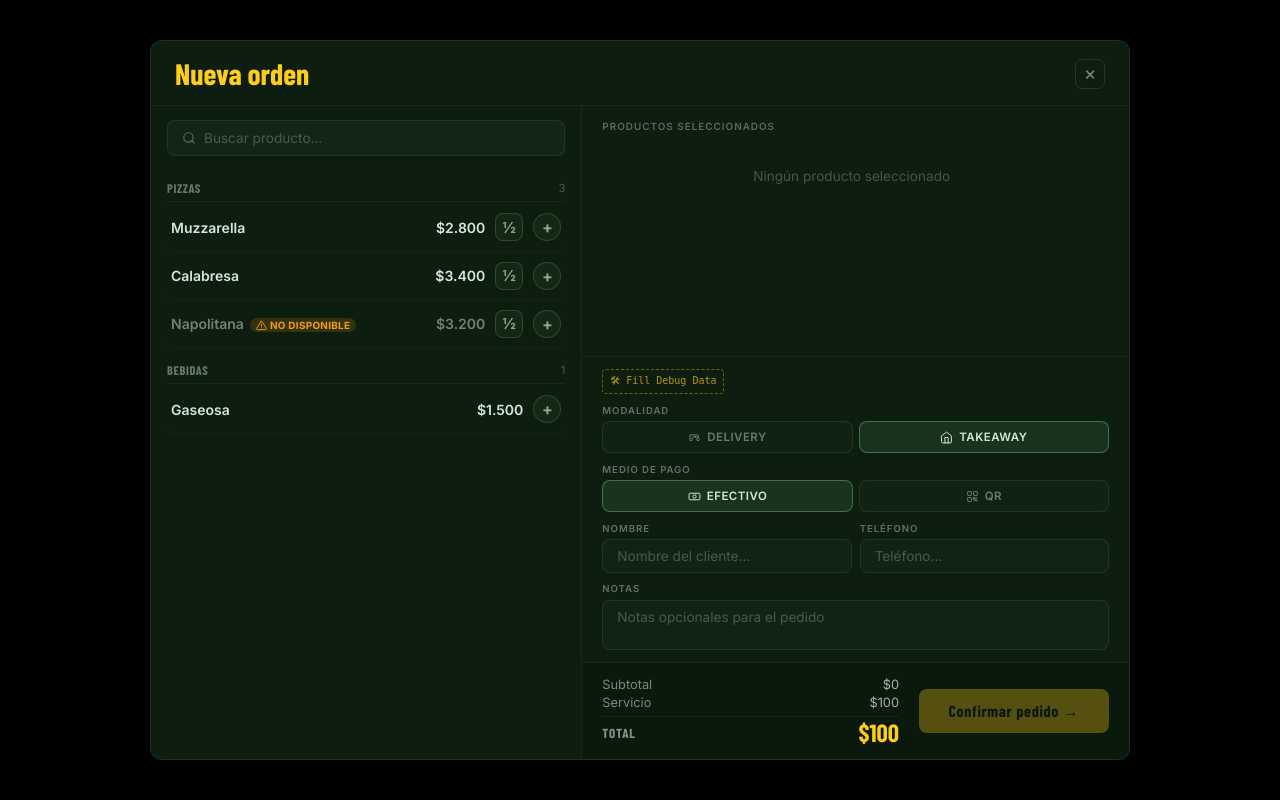
Test case: NewOrderModal · mitad y mitad (US-HH-F-03) › se completa tocando el ½ de la otra pizza
The image size is (1280, 800).
Expected: the text "Muzzarella" is shown, [171,219,245,236]
Click the button named "mitad y mitad": click(509, 227) [495,213,523,241]
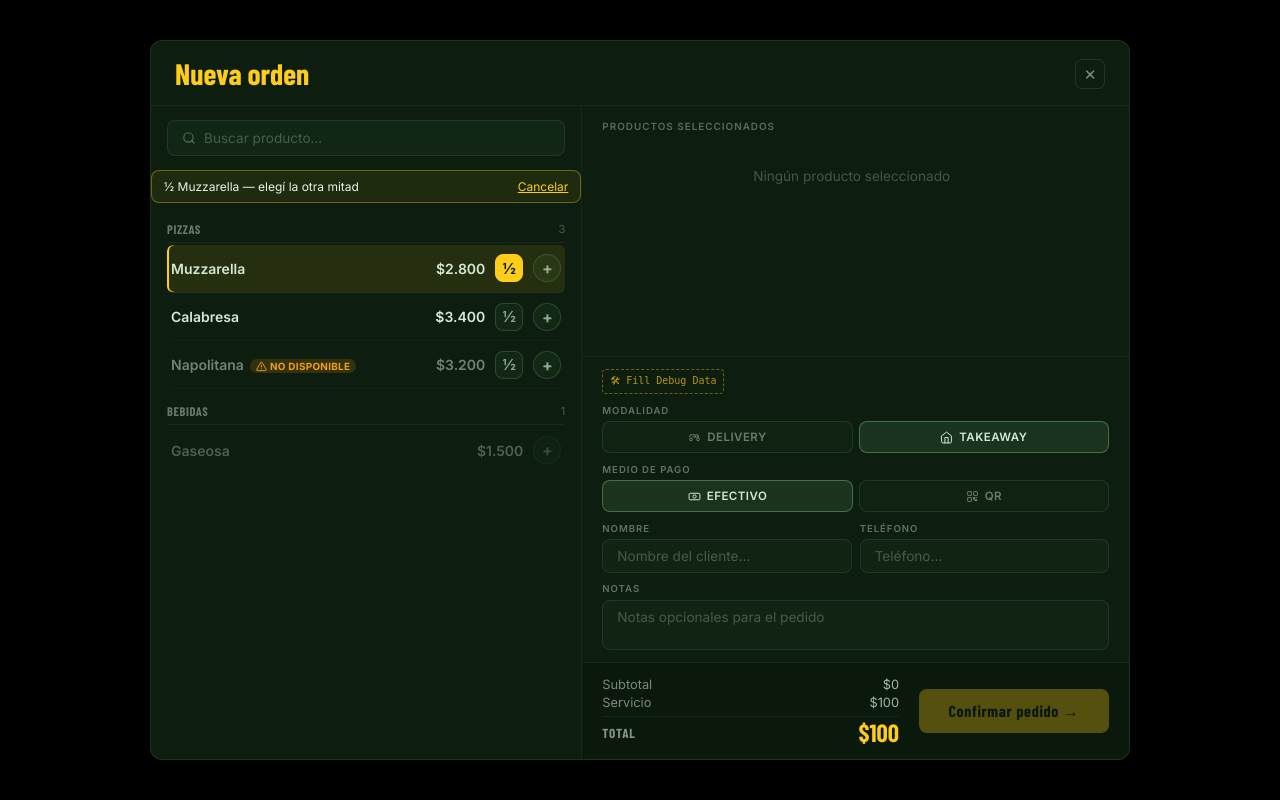
Click the button named "mitad y mitad": click(509, 316) [495,302,523,330]
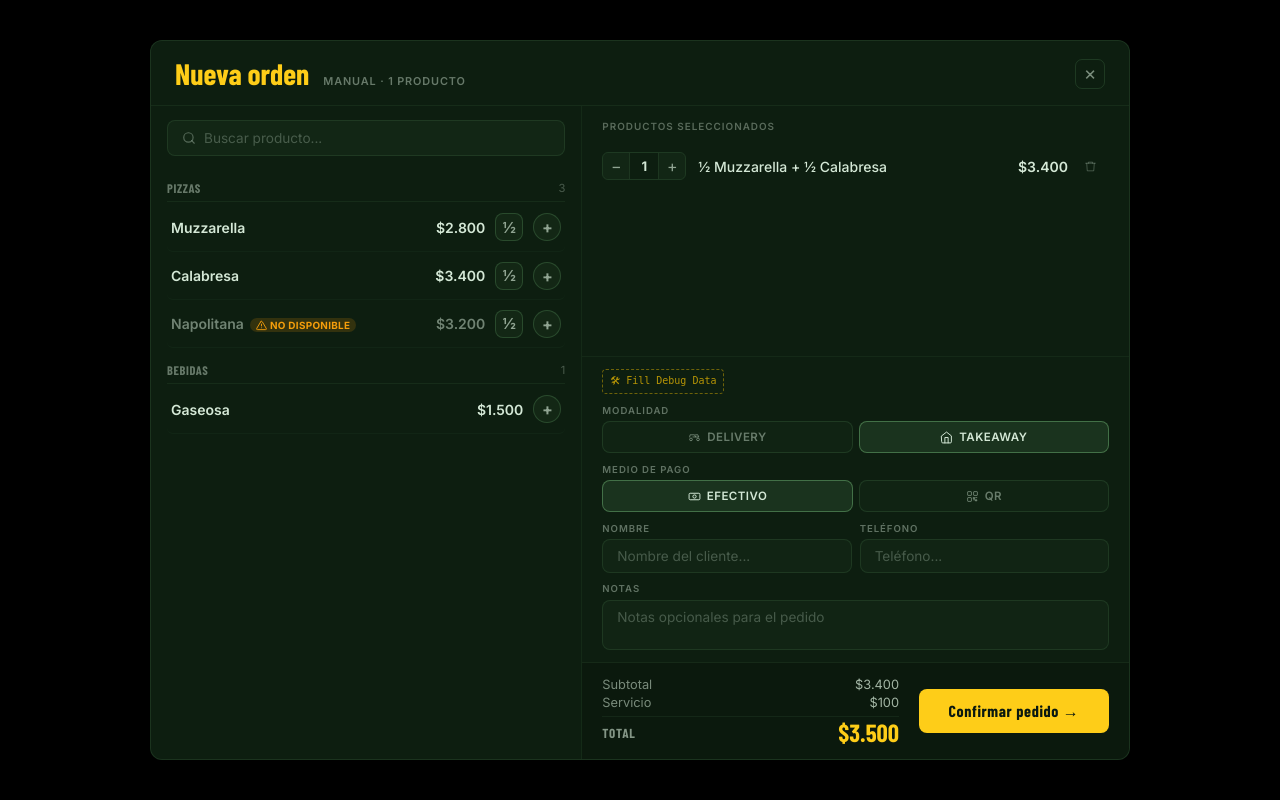
Expected: the text "½ Muzzarella + ½ Calabresa" is shown, [698,158,887,174]
